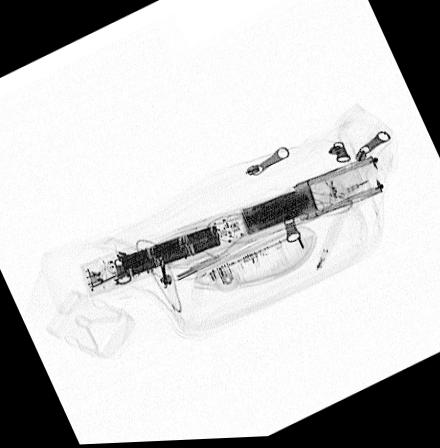Baton: (78, 156, 385, 299)
